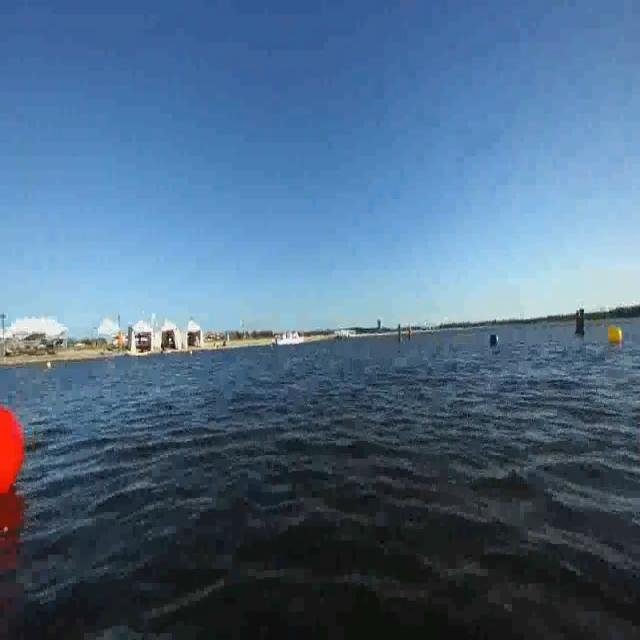blue-buoy: (489, 330, 498, 346)
red-buoy: (0, 403, 26, 502)
yellow-buoy: (606, 324, 622, 346)
